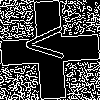V: (25, 25, 73, 62)
